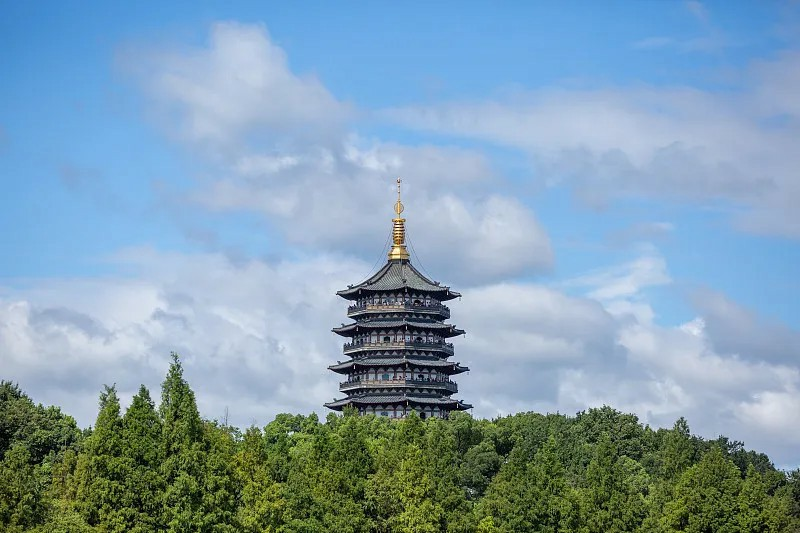Leifeng: (326, 177, 475, 424)
